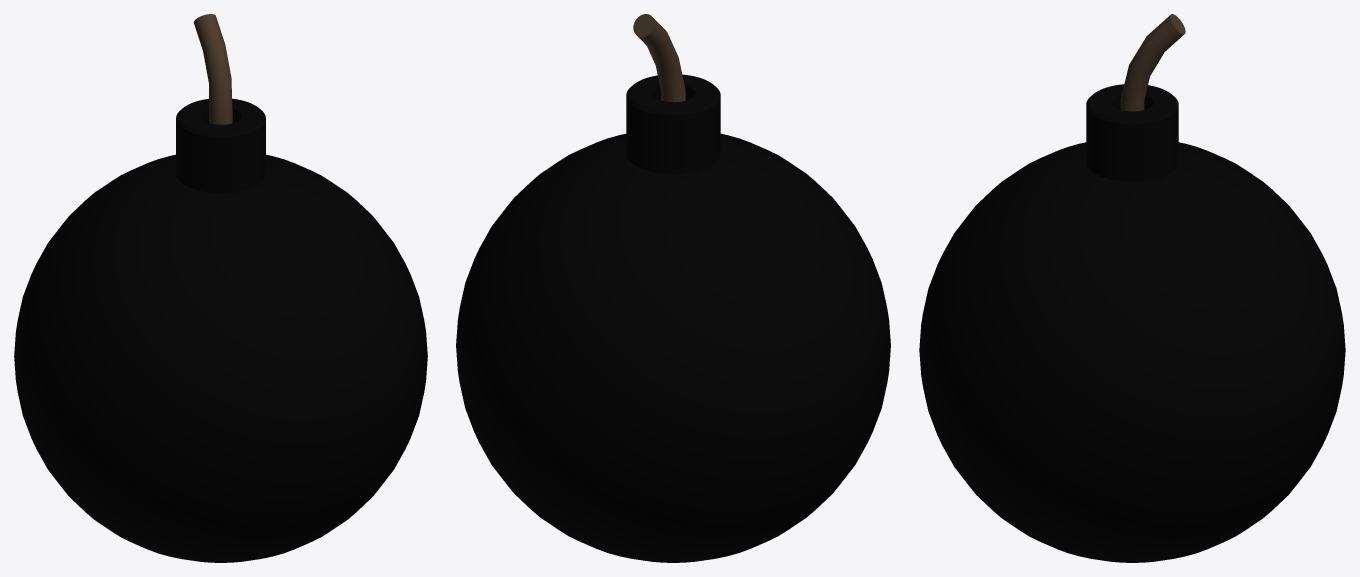
The model's file is bomb.fbx.
3 renders of one model, left to right at view 1: azimuth 30°, elevation 25°; view 2: azimuth 150°, elevation 25°; view 3: azimuth 270°, elevation 25°, orthographic. The views are drawn at different scales.
Visible parts, largest first — view 1: Mesh; view 2: Mesh; view 3: Mesh.
Part boxes in pixels (x1,y1,x2,y2): Mesh: [14, 14, 427, 562]; Mesh: [456, 14, 890, 562]; Mesh: [919, 14, 1345, 562].
Size of the model in its own units: 0.15 by 0.2059 by 0.15.
